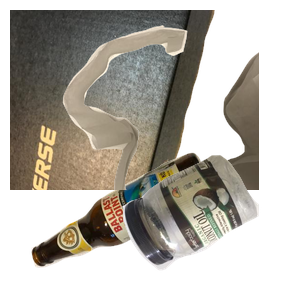cardboard: (10, 10, 217, 190)
glass: (29, 150, 238, 300)
plastic: (120, 152, 300, 300)
trash: (60, 23, 300, 203)
